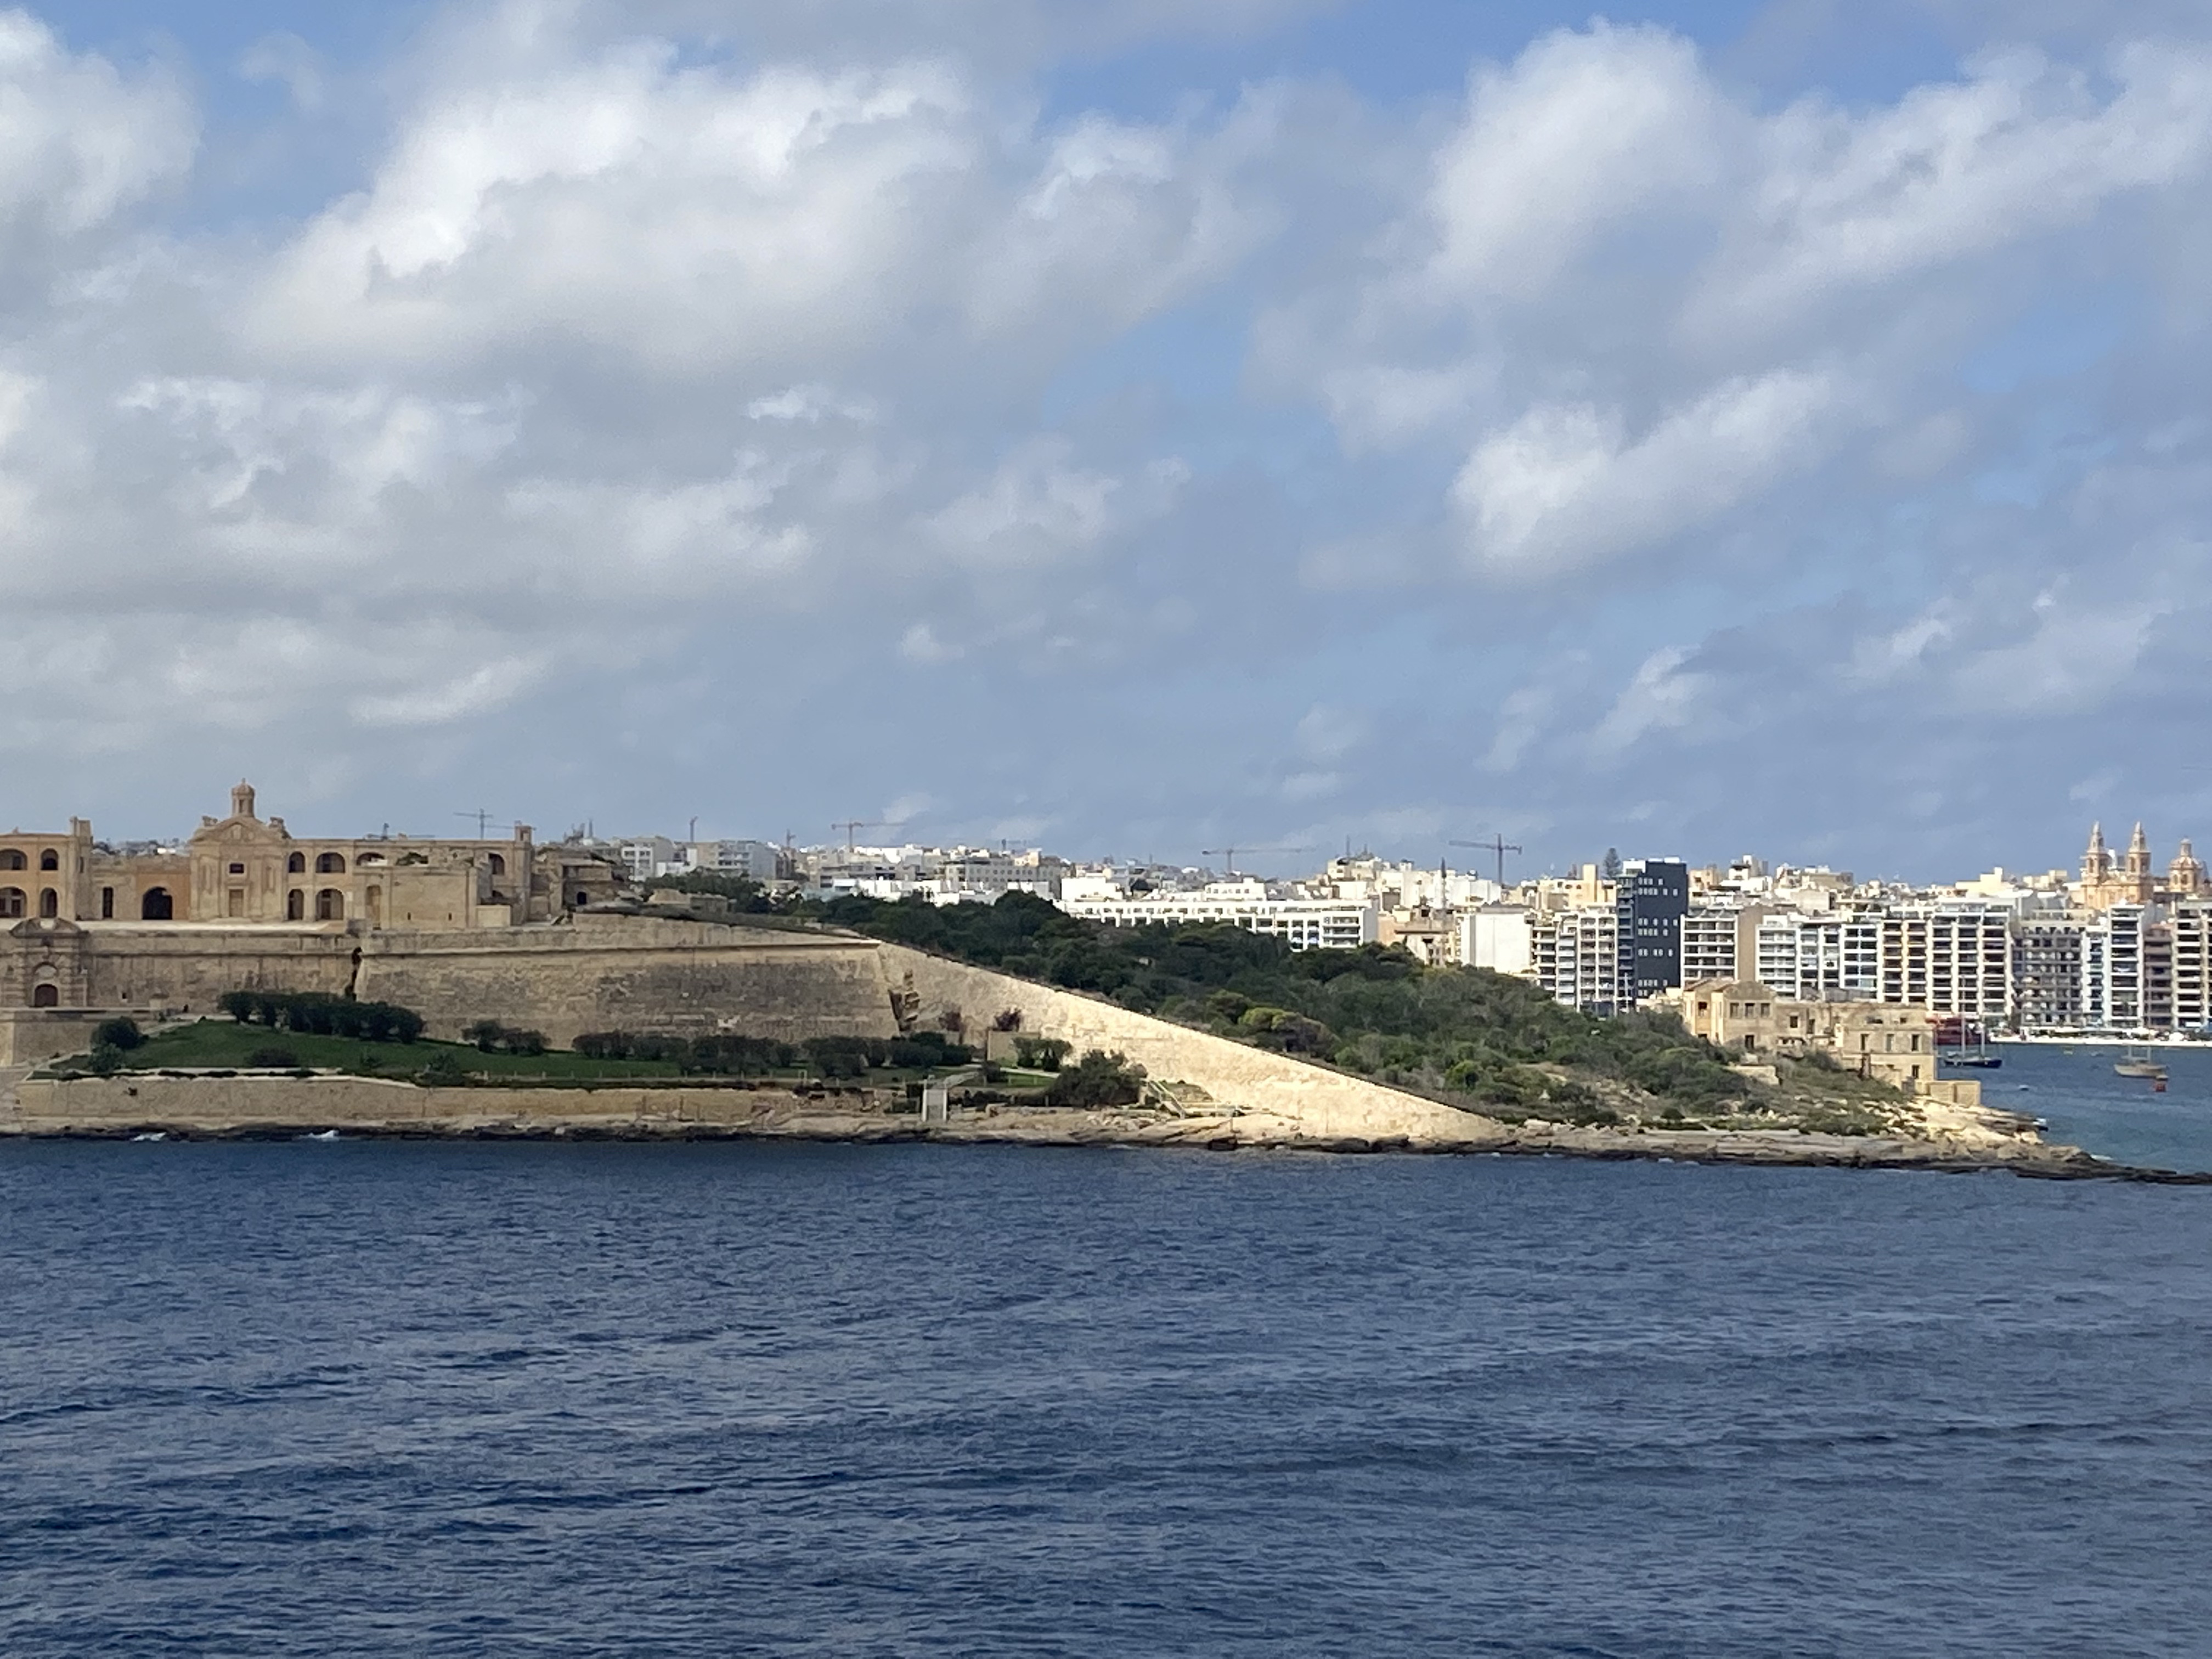crane: (1431, 819, 1530, 865), (808, 809, 921, 844)
